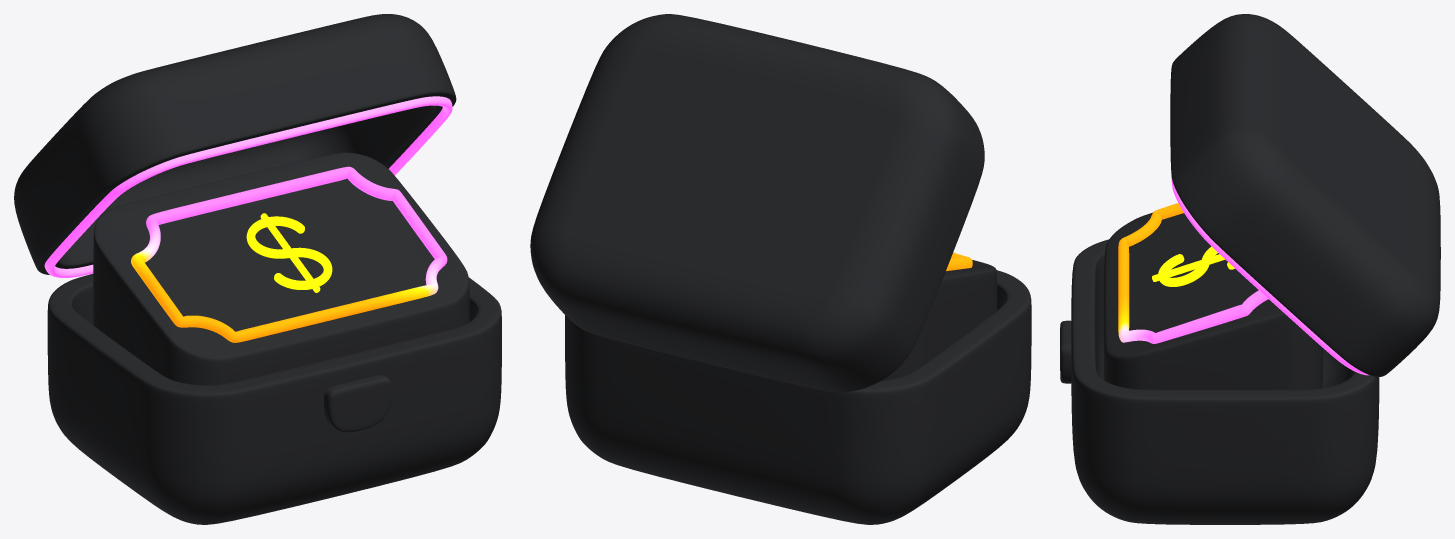
3 views of the same model, side by side, from view 1: azimuth 30°, elevation 25°; view 2: azimuth 150°, elevation 25°; view 3: azimuth 270°, elevation 25° (orthographic). The views are drawn at different scales.
Visible parts, largest first — view 1: 1. krshka.002; view 2: 1. krshka.002; view 3: 1. krshka.002.
Boxes of the visible parts, bbox=[...] form: 1. krshka.002: bbox=[14, 14, 501, 524]; 1. krshka.002: bbox=[530, 14, 1031, 524]; 1. krshka.002: bbox=[1060, 14, 1440, 524].
Size of the model in its own units: 2.38 by 2.65 by 2.31.
4 materials, 4 textured.
